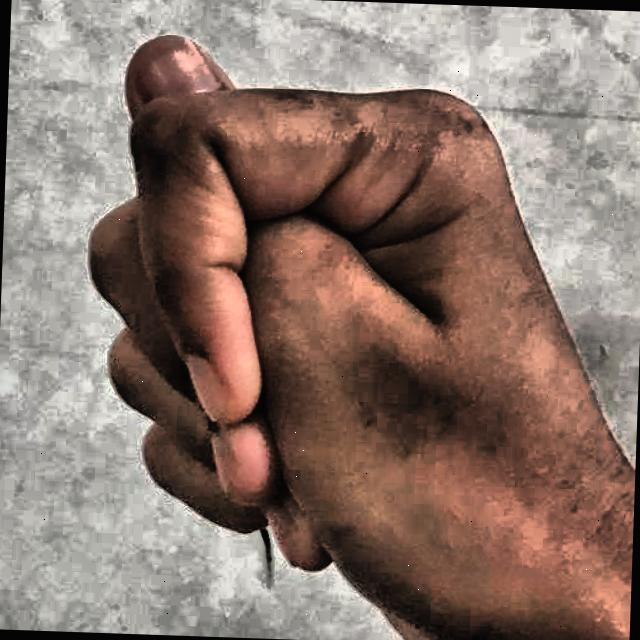Ta: (46, 13, 630, 640)
